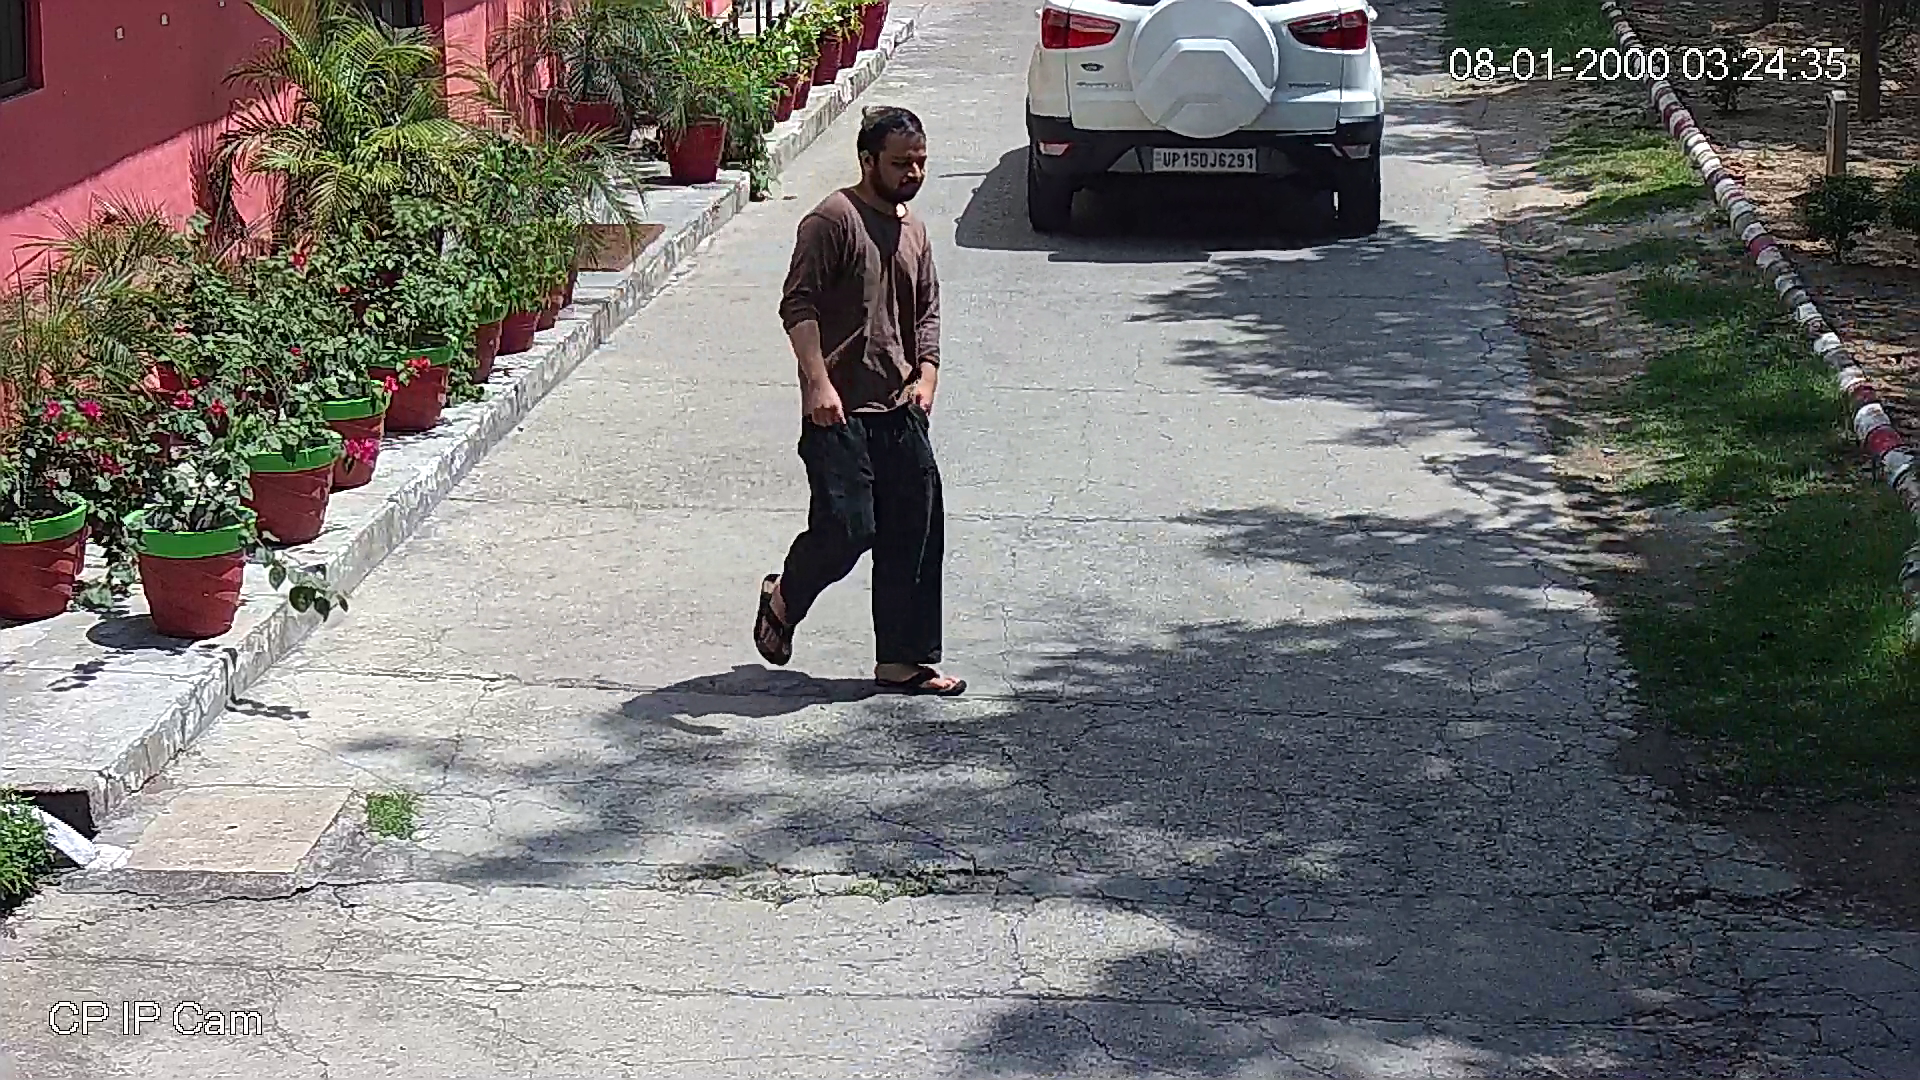plate: (1141, 143, 1265, 178)
